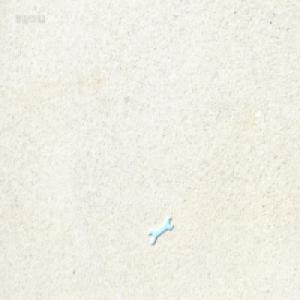Wrench: (148, 218, 172, 246)
